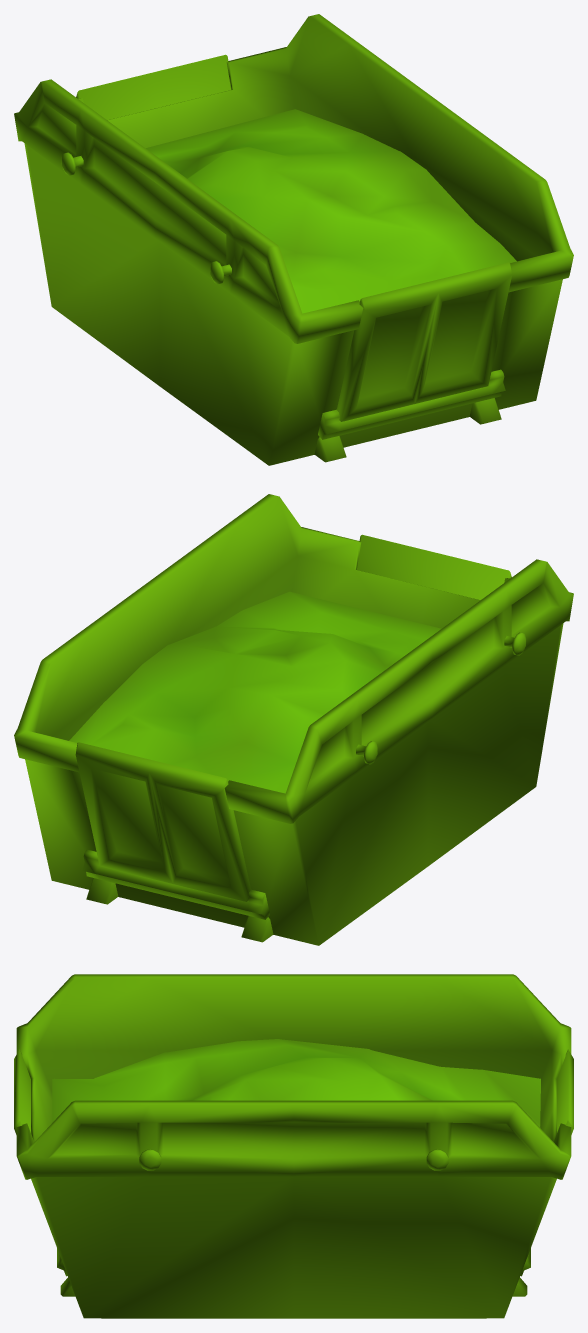
Rendered from SkipYellowNight.glb.
3 renders of one model, top to bottom at view 1: azimuth 30°, elevation 25°; view 2: azimuth 150°, elevation 25°; view 3: azimuth 270°, elevation 25°, orthographic. The views are drawn at different scales.
Visible parts, largest first — view 1: SkipYellowNight; view 2: SkipYellowNight; view 3: SkipYellowNight.
Part boxes in pixels (x1,y1,x2,y2): SkipYellowNight: (14,14,573,465); SkipYellowNight: (14,494,573,945); SkipYellowNight: (14,974,573,1318).
Size of the model in its own units: 3.34 by 2.3 by 5.4.
Materials: 2 (2 with a texture image).
